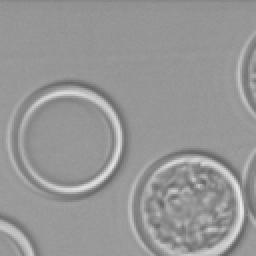picoshell: (6, 80, 126, 200), (128, 150, 244, 254), (236, 32, 254, 118), (0, 214, 38, 254), (242, 148, 254, 224)
